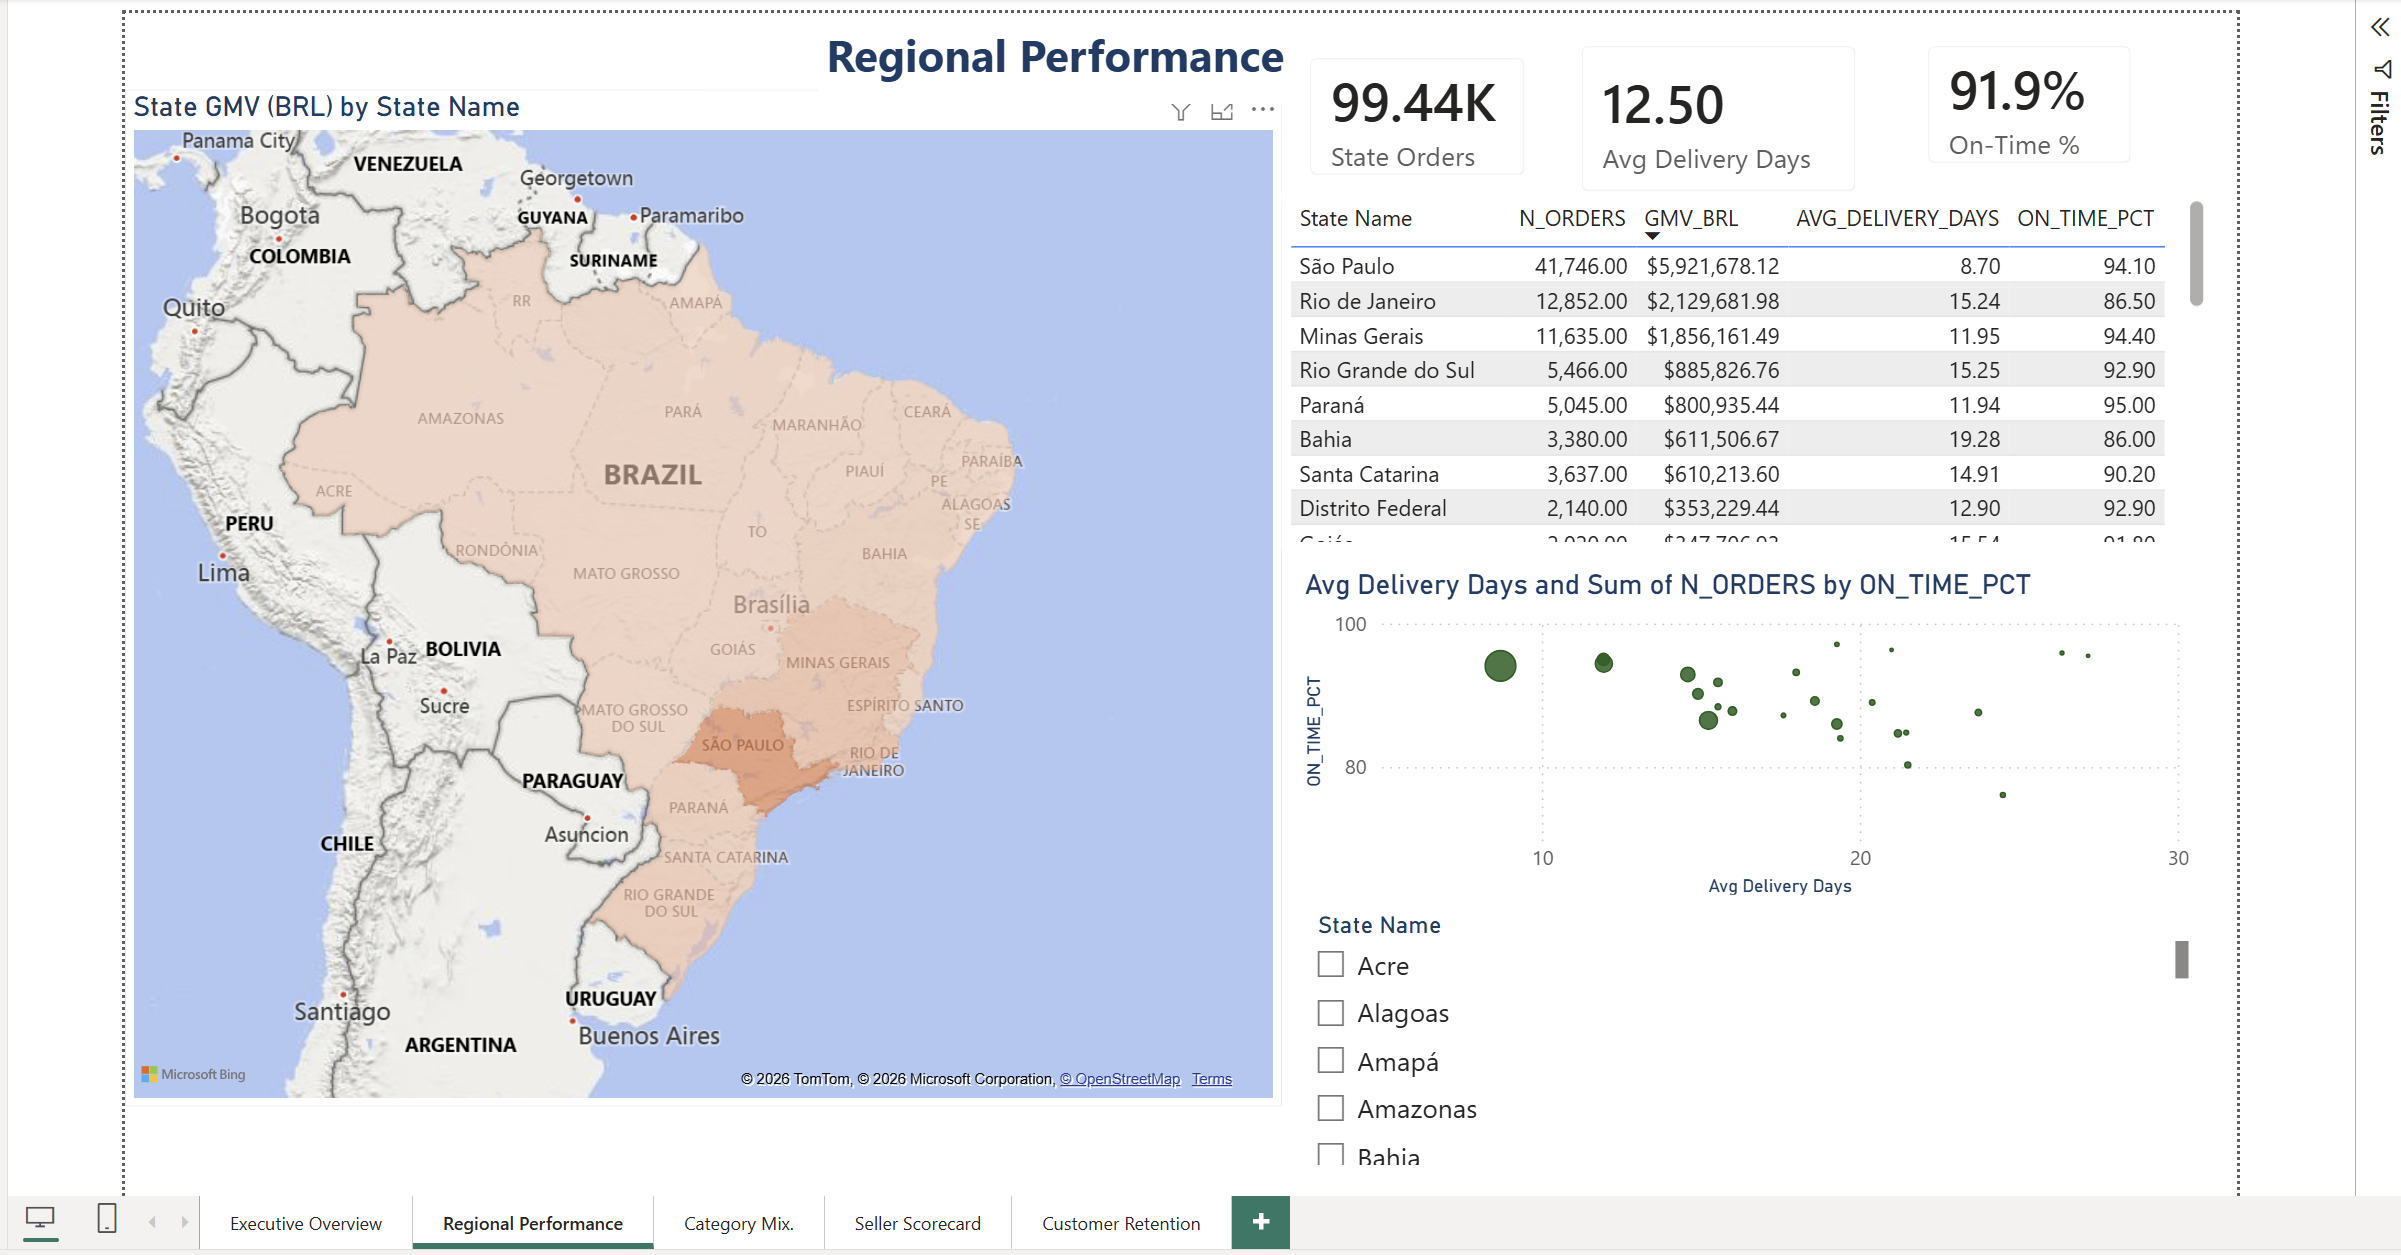

The page's visual inventory and layout, read from the dashboard file:
{"tool":"powerbi","page":{"name":"Regional Performance","canvas":[1280,720],"ordinal":1},"visuals":[{"type":"filledMap","fields":{"Category":["MART_STATE_PERFORMANCE.State Name"]},"box":[0,46.3,701,616.4],"z":0},{"type":"cardVisual","fields":{"Data":["_Measures.State Orders"]},"box":[701,10.4,164.5,105.4],"z":1000},{"type":"cardVisual","fields":{"Data":["_Measures.Avg Delivery Days"]},"box":[865.6,2.3,200.5,122.8],"z":2000},{"type":"cardVisual","fields":{"Data":["_Measures.On-Time %"]},"box":[1075.3,2.3,157.6,105.4],"z":3000},{"type":"tableEx","fields":{"Values":["MART_STATE_PERFORMANCE.State Name","MART_STATE_PERFORMANCE.N_ORDERS","MART_STATE_PERFORMANCE.GMV_BRL","MART_STATE_PERFORMANCE.AVG_DELIVERY_DAYS","MART_STATE_PERFORMANCE.ON_TIME_PCT"]},"box":[701,107.8,564.3,216.7],"z":4000},{"type":"scatterChart","fields":{"X":["_Measures.Avg Delivery Days"],"Y":["MART_STATE_PERFORMANCE.ON_TIME_PCT"],"Size":["Sum(MART_STATE_PERFORMANCE.N_ORDERS)"]},"box":[710.3,336,545.8,202.8],"z":5000},{"type":"slicer","fields":{"Values":["MART_STATE_PERFORMANCE.State Name"]},"box":[710.3,538.8,545.8,163.4],"z":6000},{"type":"textbox","box":[420.4,2,289.7,53.3],"z":7000}]}

Visuals, with their boxes on the page's 1280x720 design canvas (x1, y1, x2, y2). These are canvas units, not pixel positions in the 2401x1255 screenshot, which may show the page scaled, cropped or inside an application window:
filledMap - MART_STATE_PERFORMANCE.State Name: bbox=[0, 46, 701, 663]
cardVisual - _Measures.State Orders: bbox=[701, 10, 866, 116]
cardVisual - _Measures.Avg Delivery Days: bbox=[866, 2, 1066, 125]
cardVisual - _Measures.On-Time %: bbox=[1075, 2, 1233, 108]
tableEx - MART_STATE_PERFORMANCE.State Name x MART_STATE_PERFORMANCE.N_ORDERS: bbox=[701, 108, 1265, 324]
scatterChart - _Measures.Avg Delivery Days x MART_STATE_PERFORMANCE.ON_TIME_PCT: bbox=[710, 336, 1256, 539]
slicer - MART_STATE_PERFORMANCE.State Name: bbox=[710, 539, 1256, 702]
textbox: bbox=[420, 2, 710, 55]
